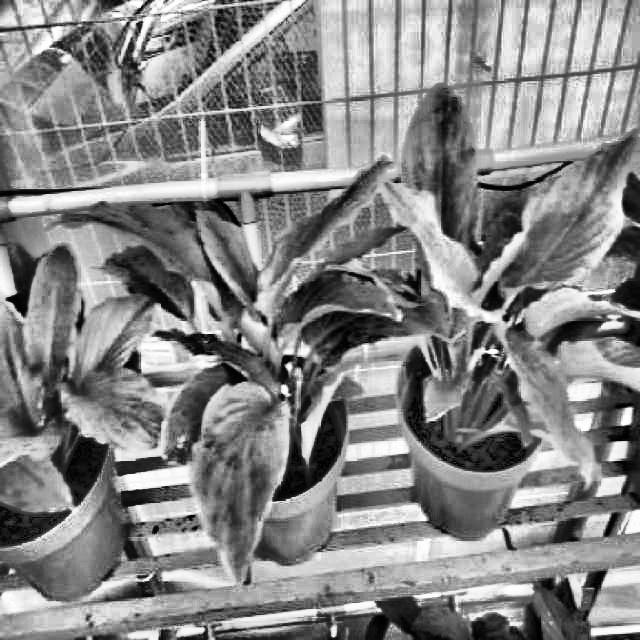plants: (44, 154, 453, 588), (323, 80, 640, 492), (0, 242, 172, 516)
